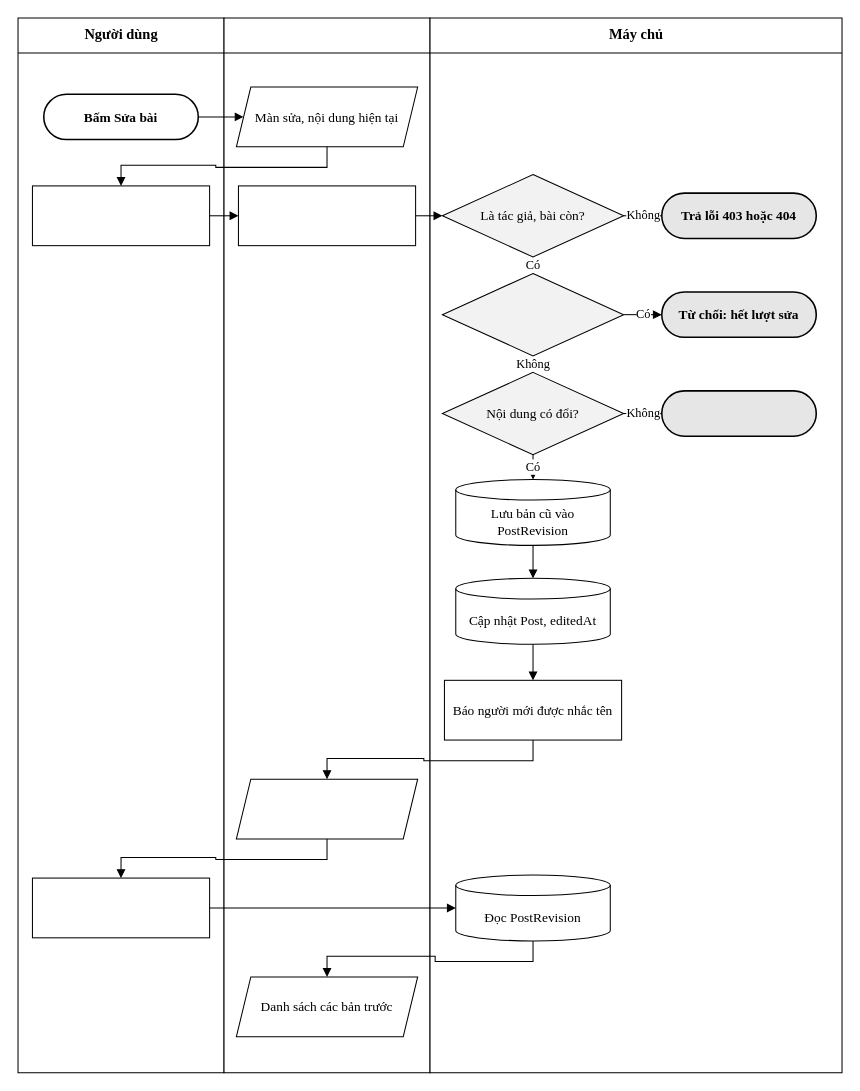
The diagram is 860 pixels wide and 1091 high, and some of its shapes have lost their labels. The shapes that lost their labels are listed below. From the top down, each one's box as (x1, y1, x2, y2) in pixels, then its label:
(31, 185, 210, 246): Sửa chữ, ảnh, bấm Lưu
(237, 185, 416, 246): Gửi PATCH /posts/:id
(441, 272, 624, 356): Đã sửa quá 20 lần?
(661, 390, 817, 437): Trả bài cũ, không ghi
(223, 17, 430, 1073): Ứng dụng
(235, 778, 418, 839): Bài hiện nhãn Đã chỉnh sửa
(31, 877, 210, 938): Người xem bấm nhãn
